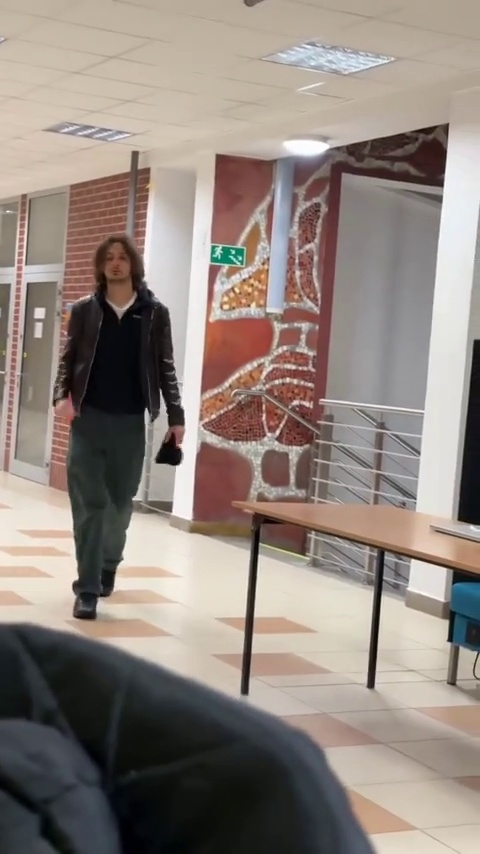no vest: (66, 243, 194, 623)
